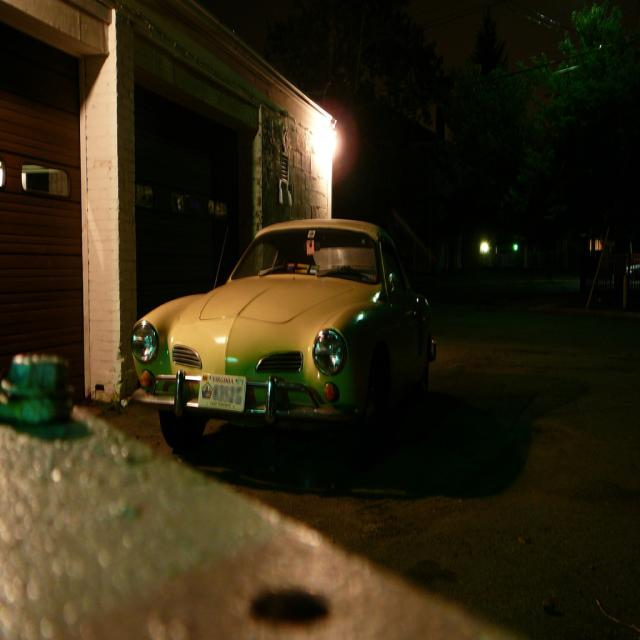car: (129, 215, 436, 454)
